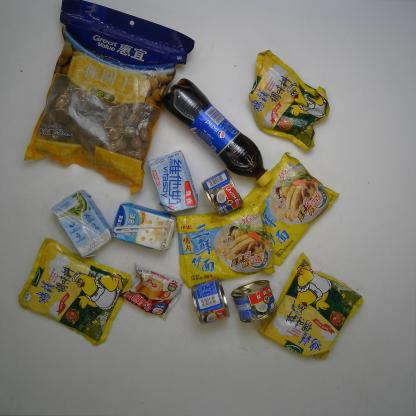Canned Food: (231, 279, 277, 323), (201, 168, 242, 216), (191, 278, 231, 325)
Dessert: (118, 260, 185, 322)
Dried Food: (21, 1, 197, 195)
Drink: (162, 78, 273, 187)
Instant Noodles: (245, 151, 340, 265), (174, 202, 275, 288)
Milk: (50, 189, 112, 258), (110, 202, 178, 251), (147, 149, 198, 214)
Seasoner: (19, 236, 133, 345), (258, 252, 364, 360), (247, 49, 331, 150)
